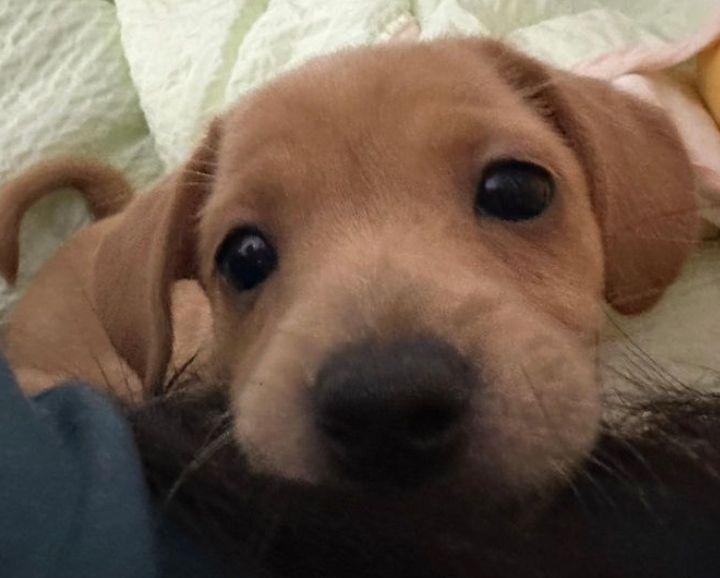puppy-dog: (0, 25, 709, 506)
